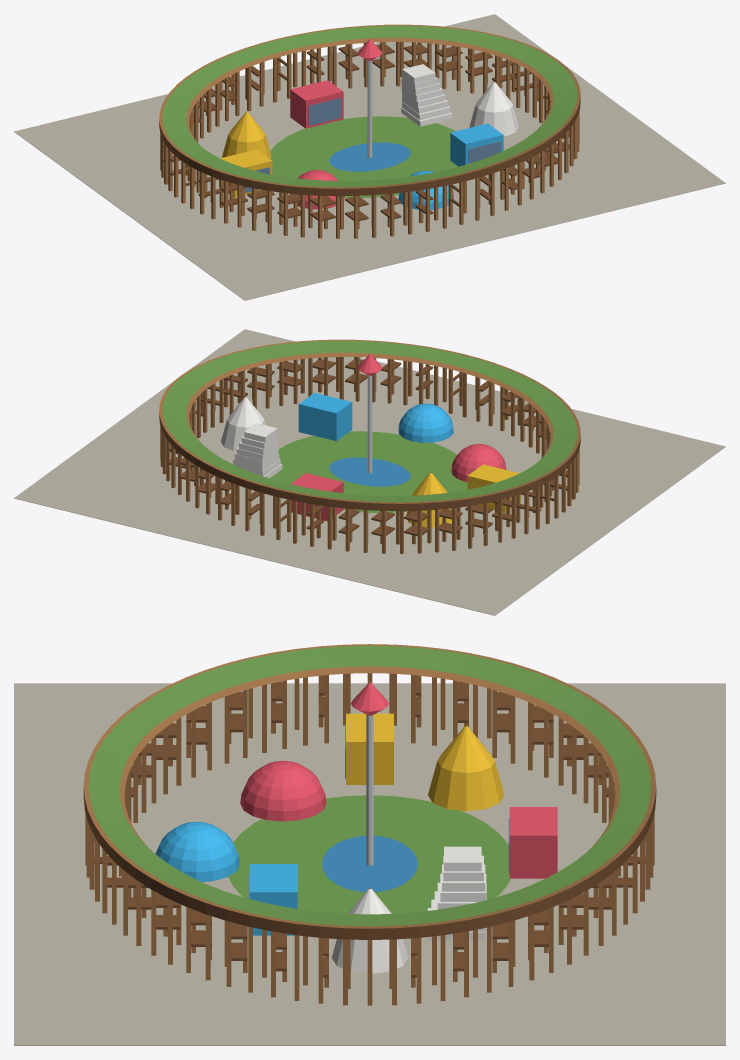
File: expo_site.glb
The picture shows the model from 3 angles, top to bottom: view 1: azimuth 30°, elevation 25°; view 2: azimuth 150°, elevation 25°; view 3: azimuth 270°, elevation 25°; orthographic projection. The views are drawn at different scales.
Parts seen in each view (by area): view 1: Expo_static; view 2: Expo_static; view 3: Expo_static.
Part boxes in pixels (x1,y1,x2,y2): Expo_static: [14, 14, 725, 300]; Expo_static: [14, 329, 725, 615]; Expo_static: [14, 644, 725, 1045].
Size of the model in its own units: 178 by 42 by 148.
